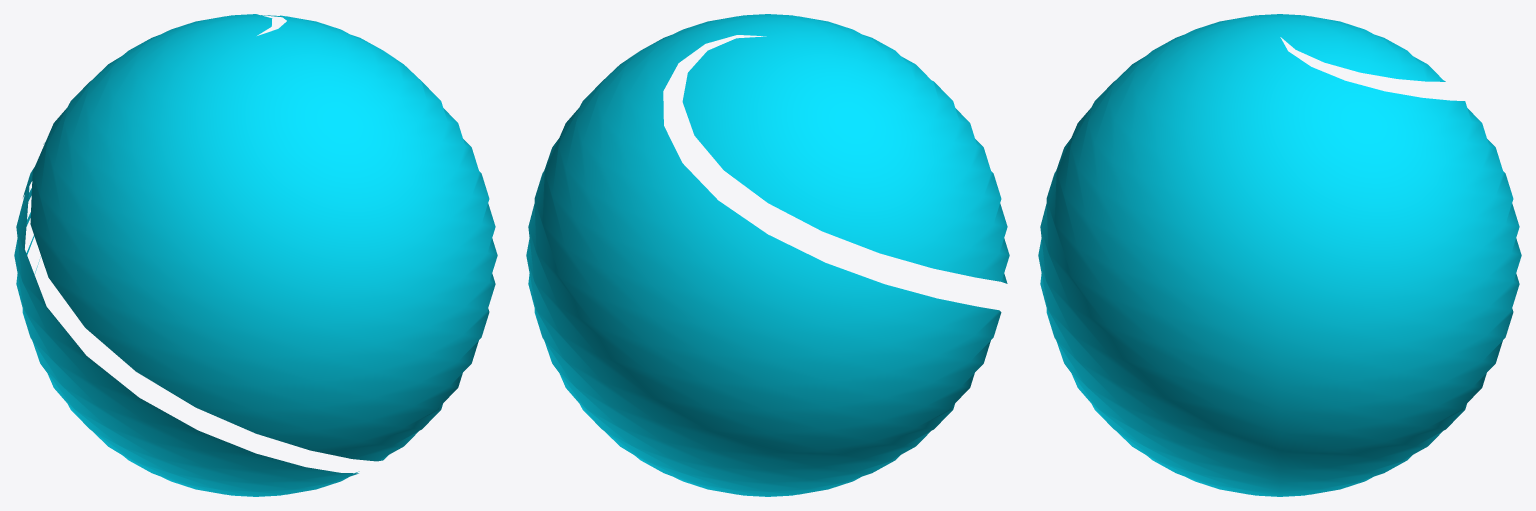
The picture shows the model from 3 angles, left to right: view 1: azimuth 30°, elevation 25°; view 2: azimuth 150°, elevation 25°; view 3: azimuth 270°, elevation 25°; orthographic projection.
Bounding box in the file's own units: 2.6 × 2.59 × 2.6.
